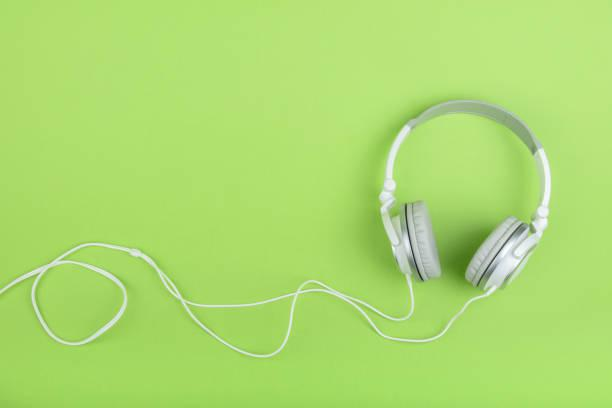headphone: (372, 87, 572, 292)
